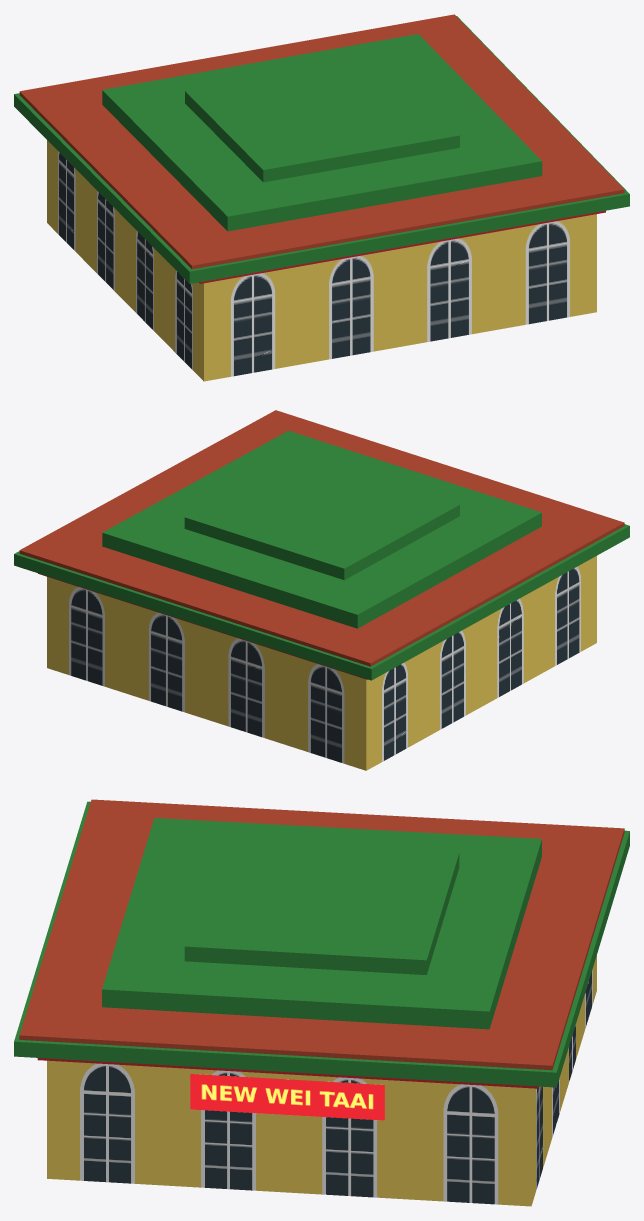
File: newweitai.glb
The picture shows the model from 3 angles, top to bottom: view 1: azimuth 30°, elevation 25°; view 2: azimuth 150°, elevation 25°; view 3: azimuth 270°, elevation 25°; orthographic projection. The views are drawn at different scales.
Parts seen in each view (by area): view 1: newweitai_lod0; view 2: newweitai_lod0; view 3: newweitai_lod0.
Boxes of the visible parts, x1=… form: newweitai_lod0: x1=14, y1=14, x2=629, y2=381; newweitai_lod0: x1=14, y1=410, x2=629, y2=770; newweitai_lod0: x1=14, y1=799, x2=629, y2=1206.
Size of what is drawn, in the model's own units: 19.6 by 6.25 by 18.82.
6 materials, 2 textured.
